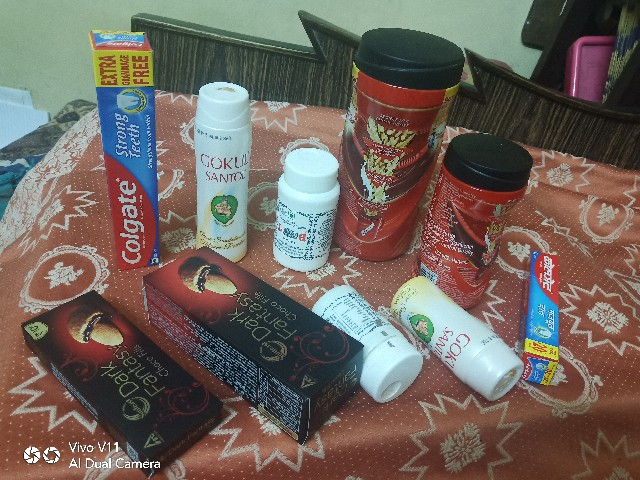boost big: (337, 23, 470, 257)
boost small: (420, 124, 533, 307)
colgatetoothpaste big: (59, 10, 164, 272)
colgatetoothpaste small: (522, 238, 571, 384)
darkfantasy big: (140, 246, 366, 428)
darkfantasy small: (3, 279, 218, 466)
gokulsantol big: (191, 78, 255, 258)
gokulsantol small: (396, 257, 521, 399)
lgasafoetidapowder large: (275, 145, 340, 275)
lgasafoetidapowder small: (313, 269, 418, 404)
